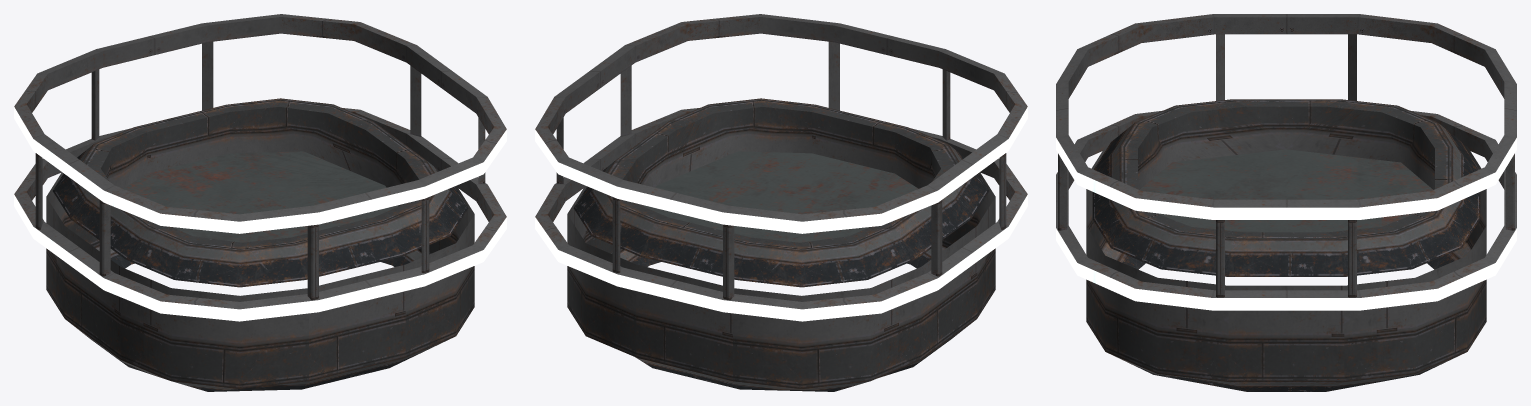
The model's file is ARC1110068.fbx.
3 renders of one model, left to right at view 1: azimuth 30°, elevation 25°; view 2: azimuth 150°, elevation 25°; view 3: azimuth 270°, elevation 25°, orthographic. The views are drawn at different scales.
Parts seen in each view (by area): view 1: smARC1110068; view 2: smARC1110068; view 3: smARC1110068.
Part boxes in pixels (x1,y1,x2,y2): smARC1110068: [14, 14, 506, 391]; smARC1110068: [535, 14, 1027, 391]; smARC1110068: [1056, 14, 1516, 391].
Size of the model in its own units: 275 by 137 by 276.
1 material, 1 textured.
